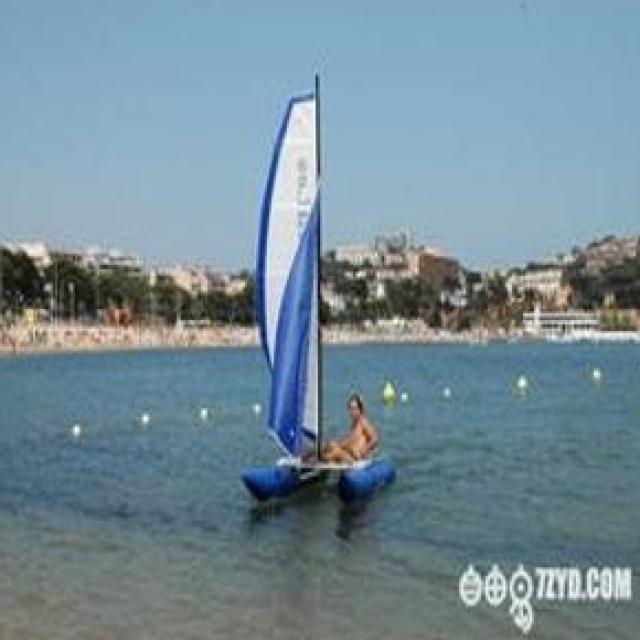sailboat: (229, 61, 387, 504)
